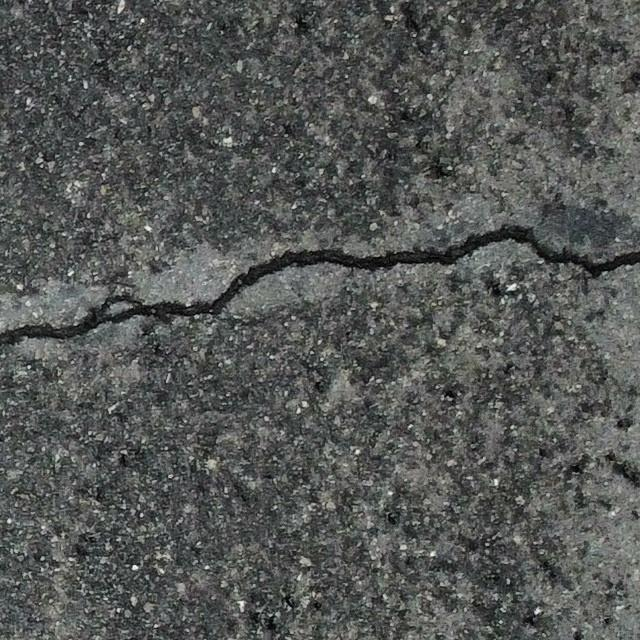TransverseCrack: (1, 226, 640, 345)
